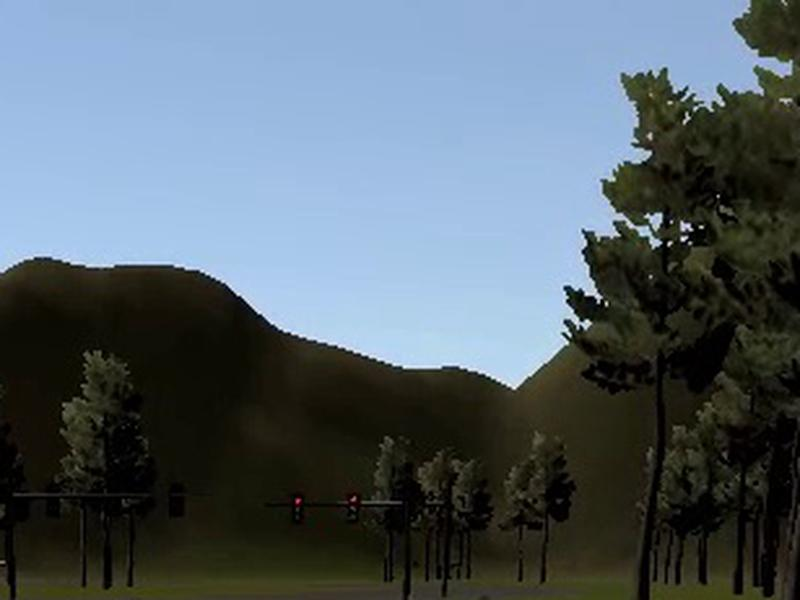Red: (345, 493, 361, 528), (290, 493, 307, 525)
